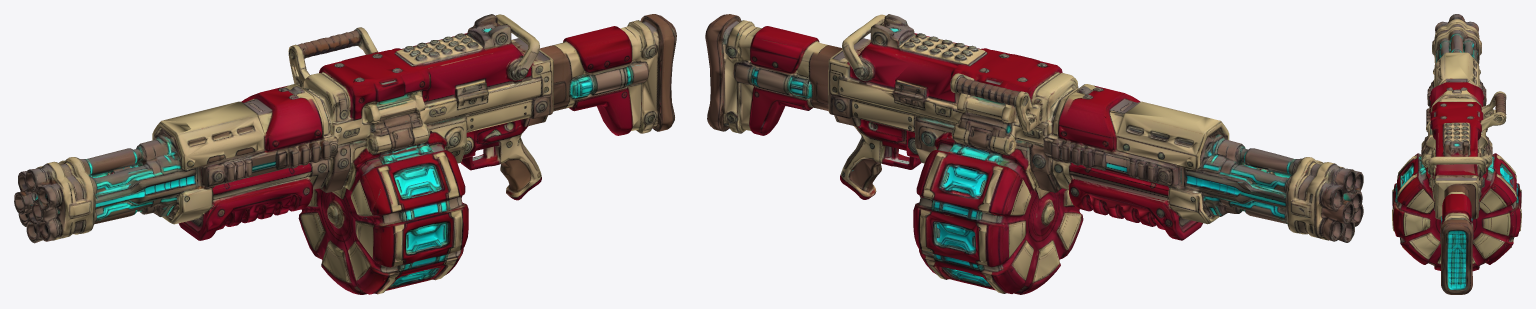
File: meshy_lmg_bottom.fbx
3 views of the same model, side by side, from view 1: azimuth 30°, elevation 25°; view 2: azimuth 150°, elevation 25°; view 3: azimuth 270°, elevation 25° (orthographic). The views are drawn at different scales.
Visible parts, largest first — view 1: Mesh1.0; view 2: Mesh1.0; view 3: Mesh1.0.
Boxes of the visible parts, box(x1,y1,x2,y2) form: Mesh1.0: box(14, 14, 676, 294); Mesh1.0: box(705, 14, 1363, 294); Mesh1.0: box(1392, 14, 1521, 294).
Size of the model in its own units: 72.61 by 25 by 18.77.
1 material, 1 textured.
